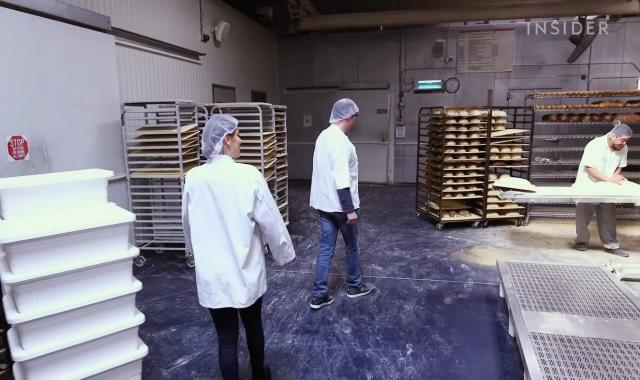hairnet: (202, 116, 238, 159), (329, 99, 359, 121), (609, 122, 633, 140)
